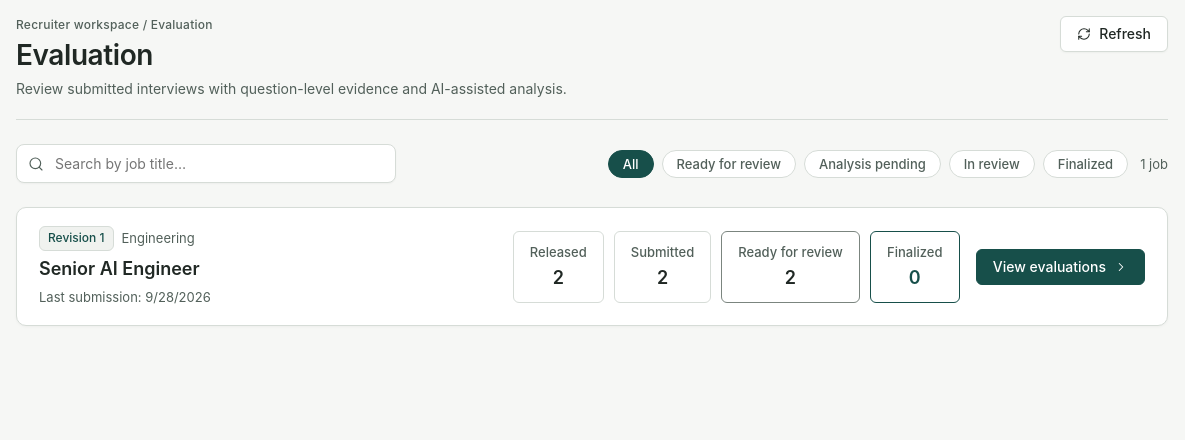
Test case: Phase 4D.4: Mode-Aware Evaluation UI & Export › renders dual-mode candidates and allows filtering by interview mode
The image size is (1185, 440).
Expected: the heading "Senior AI Engineer" is shown, [39,258,200,279]
Click the button with aria-label "view evaluations for senior ai engineer" at x=1060, y=267, box [976,249,1145,285]
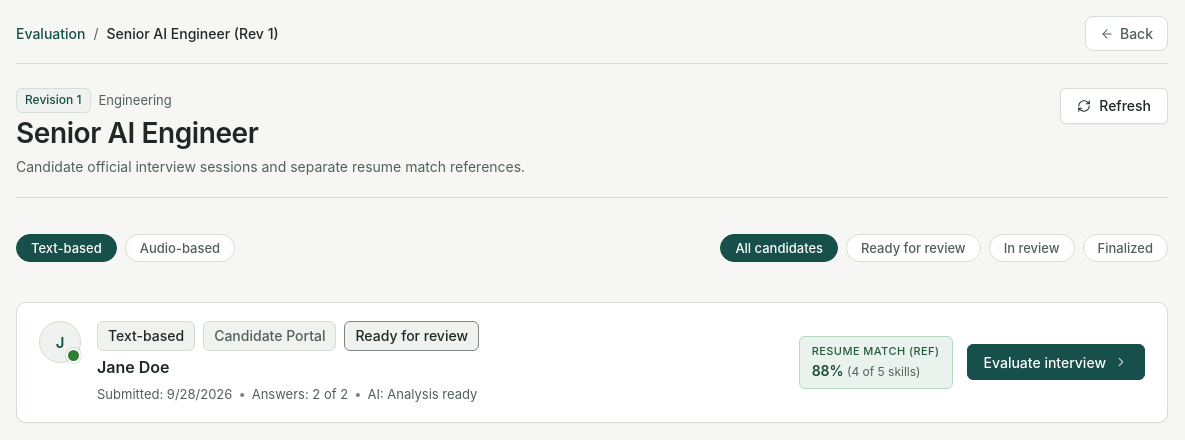
Expected: the text "Text-based" is shown, [97,321,195,351]
Expected: the number of headings "Jane Doe" is 1, [97,357,170,377]
Note: Test Audio-only filter pill
Click the button "Audio-based" at x=180, y=248, box [125,234,235,262]
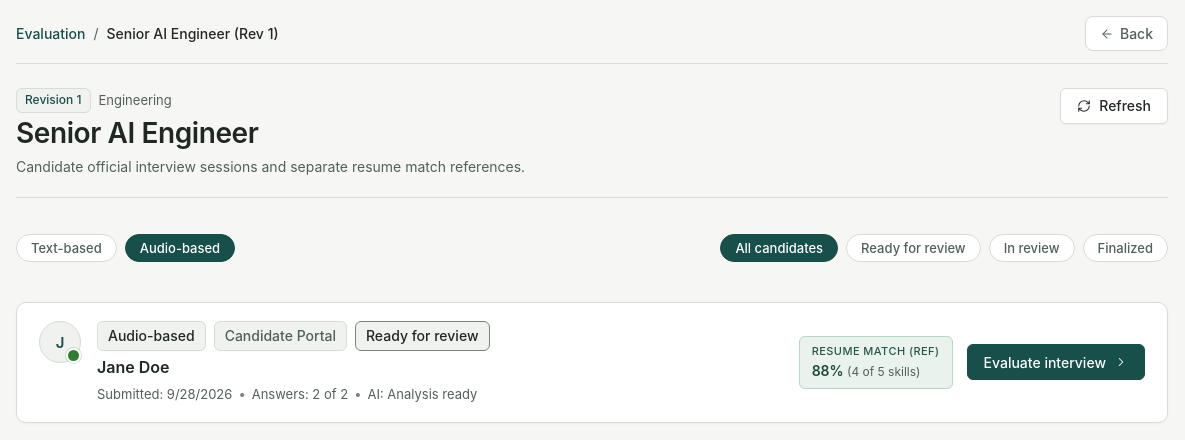
Expected: the number of headings "Jane Doe" is 1, [97,357,170,377]
Expected: the text "Audio-based" is shown, [97,321,206,351]
Expected: the text with class "eval-badge-mode-text" is gone
Note: Test Text-only filter pill
Click the button "Text-based" at x=66, y=248, box [16,234,117,262]
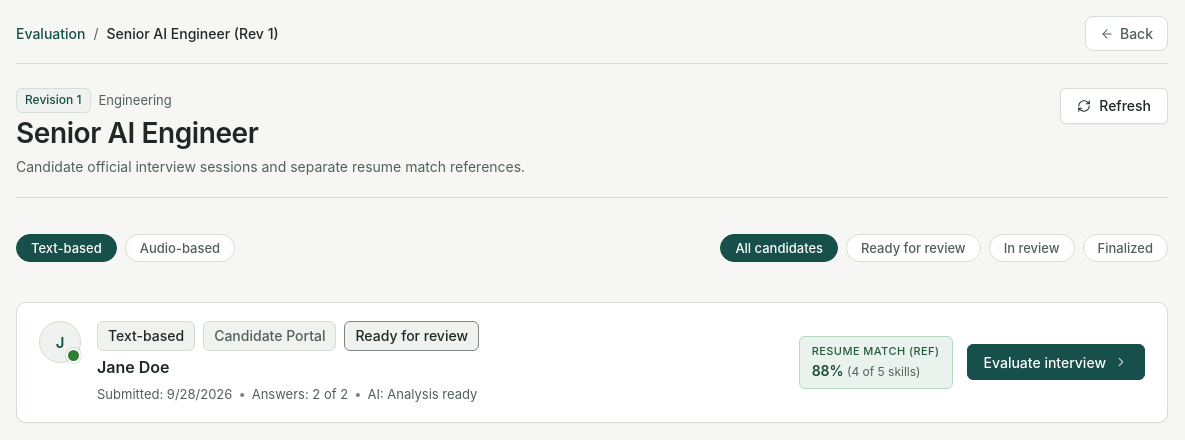
Expected: the number of headings "Jane Doe" is 1, [97,357,170,377]
Expected: the text "Text-based" is shown, [97,321,195,351]
Expected: the text with class "eval-badge-mode-audio" is gone
